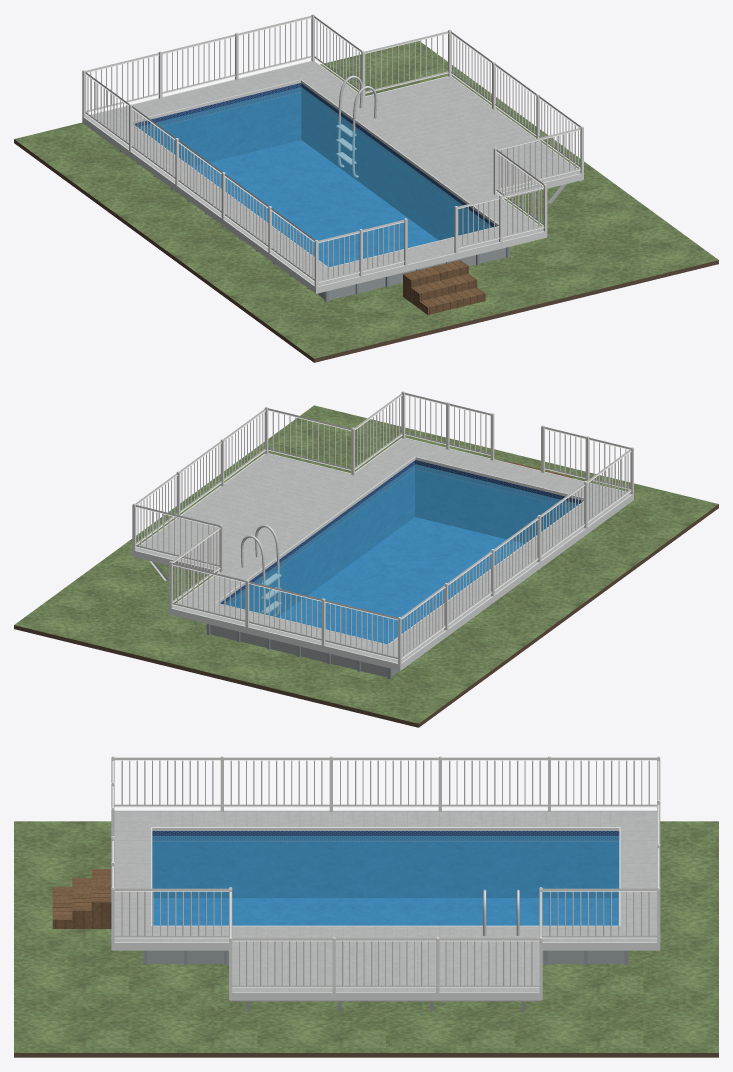
Rendered from kayak-pool-12x24-gray-t-rec-fence.9556613b5a.glb.
3 views of the same model, one above another, from view 1: azimuth 30°, elevation 25°; view 2: azimuth 150°, elevation 25°; view 3: azimuth 270°, elevation 25° (orthographic). The views are drawn at different scales.
Parts seen in each view (by area): view 1: ground, water, deck, fence, liner_wall, liner_floor, fascia, soil, steps, wall, steel; view 2: ground, water, deck, fence, liner_wall, liner_floor, fascia, soil, wall, steel; view 3: ground, water, deck, liner_wall, fence, liner_floor, fascia, soil, steps, wall, stud.
Boxes of the visible parts, x1,y1,x2,y2 form: ground: (14,41,718,358); water: (138,87,492,267); deck: (85,61,580,285); fence: (82,14,583,287); liner_wall: (133,83,496,240); liner_floor: (192,140,438,267); fascia: (82,60,583,293); soil: (14,139,718,362); steps: (403,260,485,314); wall: (317,247,506,300); steel: (336,75,377,177); ground: (14,405,718,723); water: (225,464,577,643); deck: (136,438,630,662); fence: (132,391,633,664); liner_wall: (220,460,583,617); liner_floor: (278,517,524,643); fascia: (132,437,633,670); soil: (14,504,718,727); wall: (210,624,399,677); steel: (241,524,281,616); ground: (14,821,718,1052); water: (152,836,619,925); deck: (111,811,656,991); liner_wall: (152,831,619,898); fence: (111,756,660,992); liner_floor: (153,898,618,925); fascia: (111,810,660,1000); soil: (14,1053,718,1057); steps: (52,869,111,928); wall: (147,950,624,963); stud: (230,1000,540,1011).
Bounding box in the file's own units: 8.53 × 2.15 × 10.97.
Materials: 13 (5 with a texture image).
